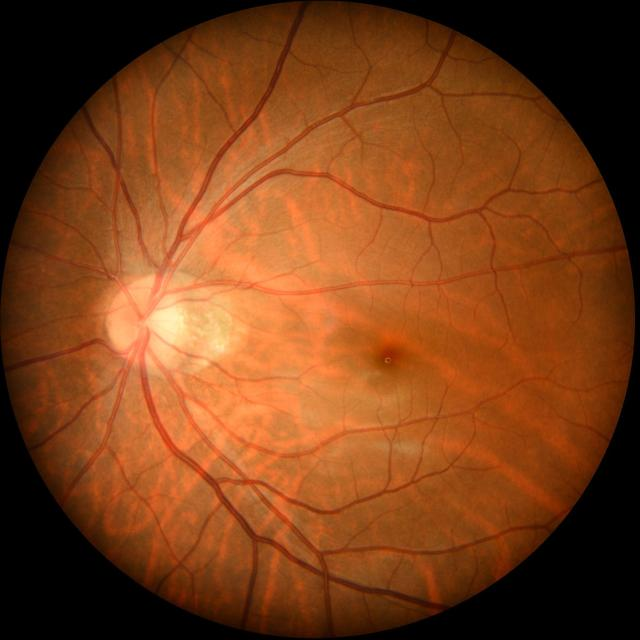OC: (140, 306, 176, 344)
OD: (106, 276, 185, 367)
